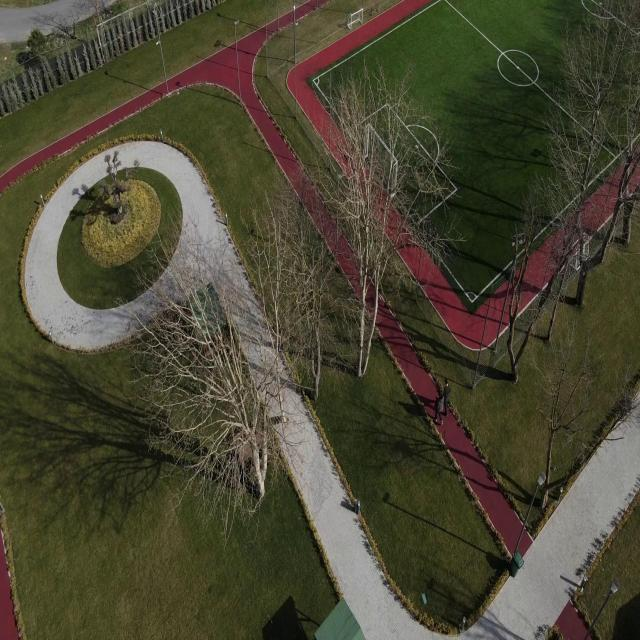p3rson: (434, 391, 443, 426), (443, 379, 451, 416)
